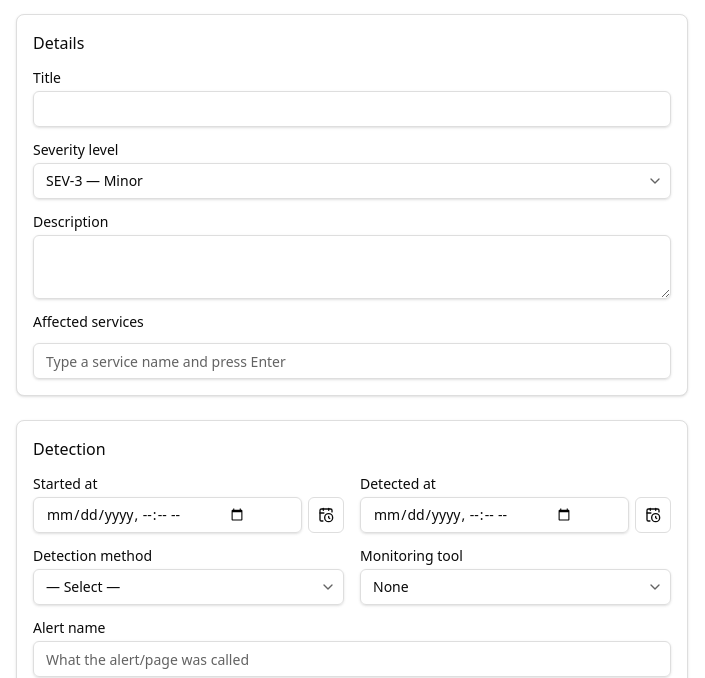
it: SevCreatePage › shows the server error message when creation fails
Type "x" into the field labelled "Title".
click(352, 109); type("x")  # box top-left (33, 91), bottom-right (671, 127)
(page scrolled)
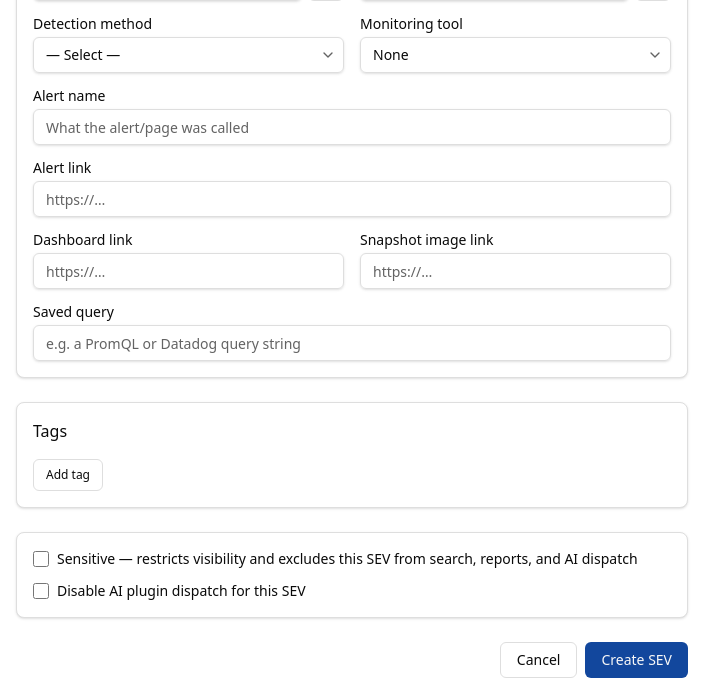
Click the button "Create SEV".
click(637, 660)  # box top-left (585, 642), bottom-right (688, 677)
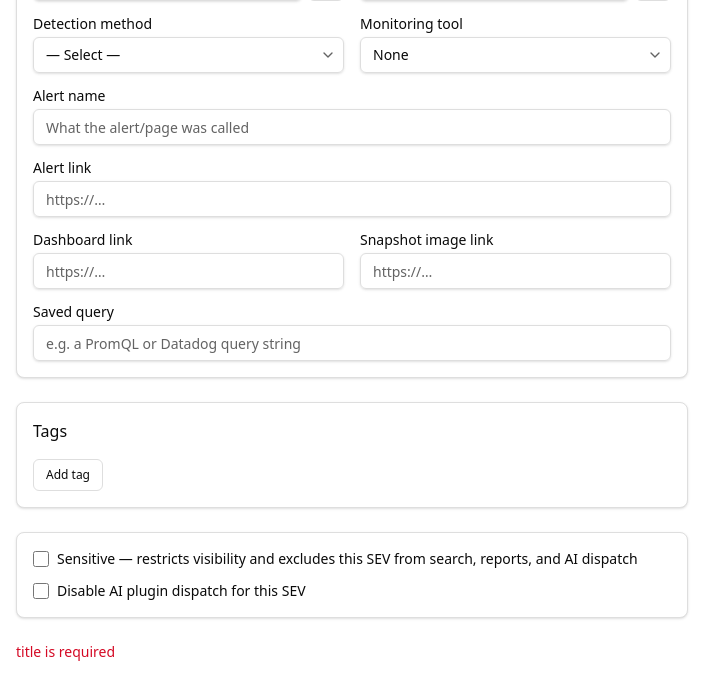
Result: the message reads "title is required" at top-left (16, 642), bottom-right (115, 661)
